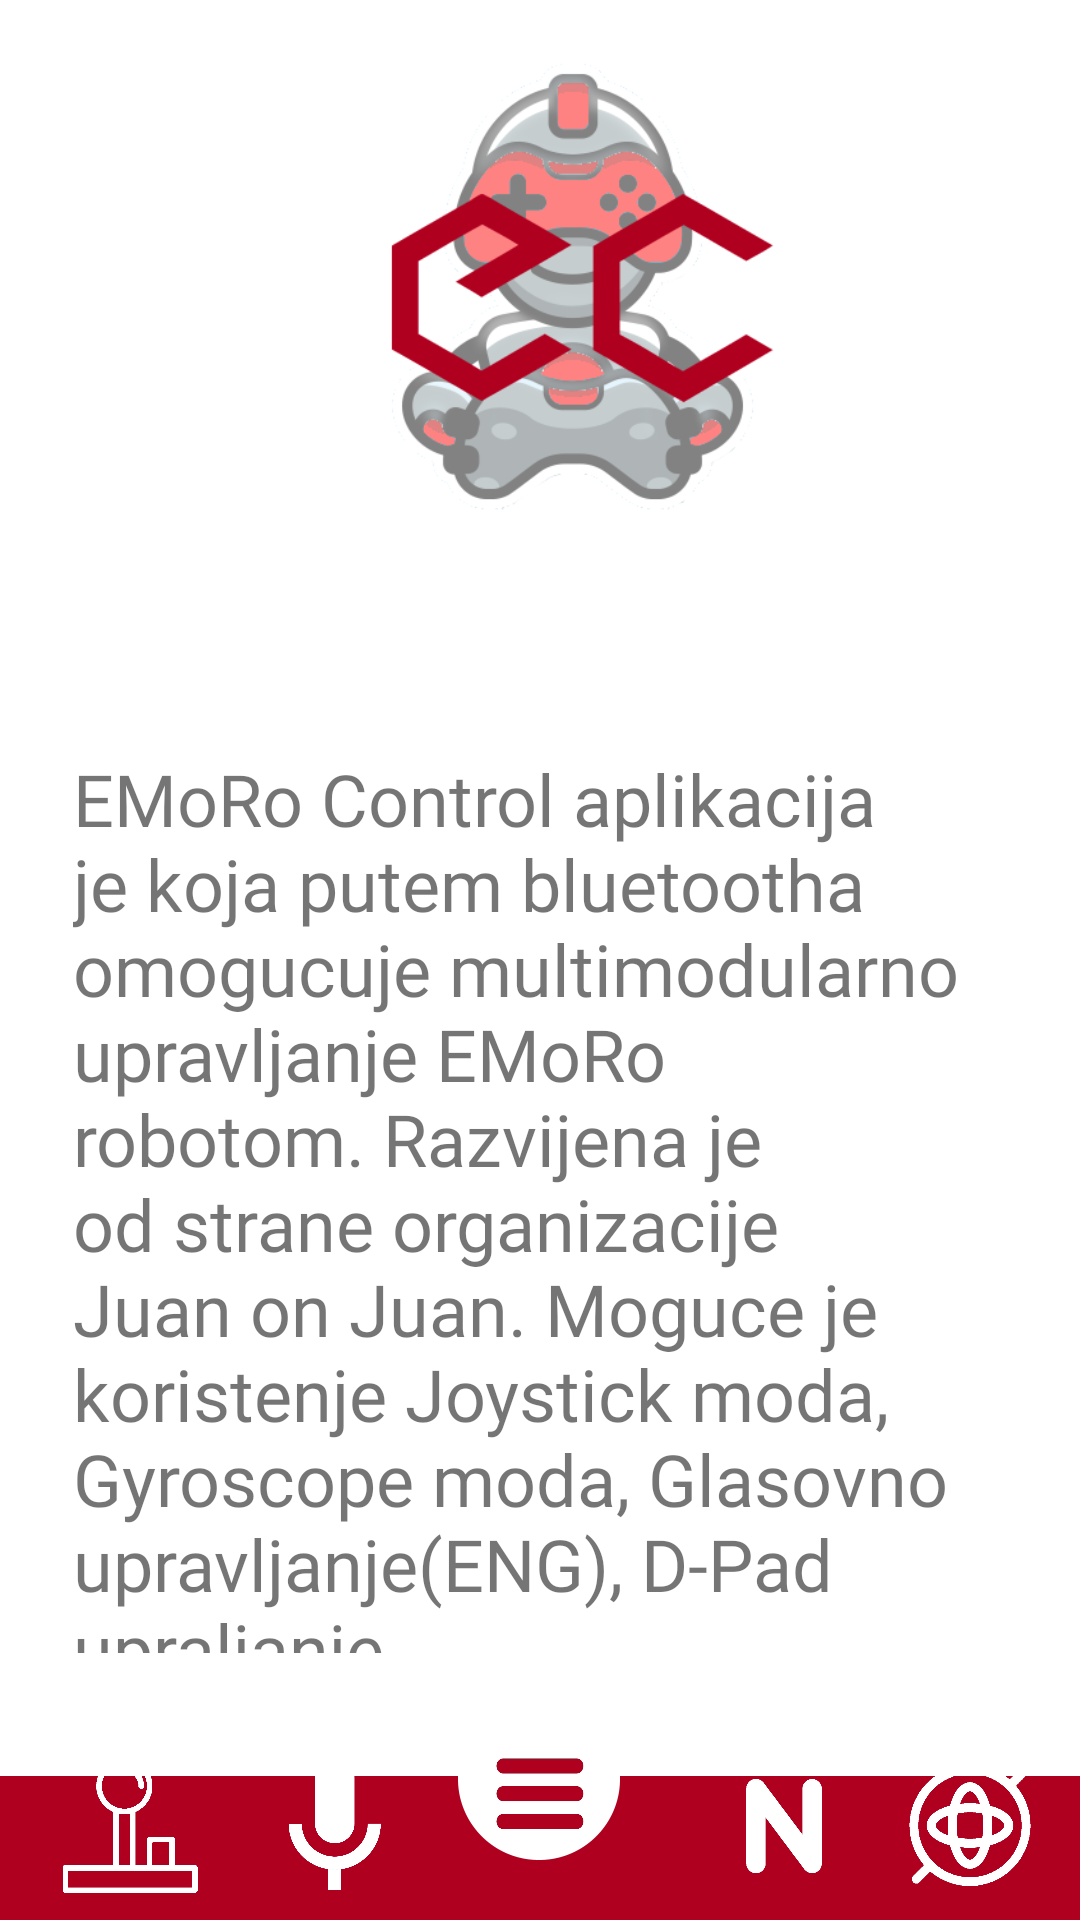

Icons on this 1080×1920 Android screen, each with its box as detection(x1, y1, x2, y2):
icogyrowhite: detection(895, 1758, 1045, 1886)
icojoystickwhite: detection(55, 1758, 205, 1893)
icomenured: detection(496, 1758, 584, 1829)
icomicwhite: detection(259, 1756, 409, 1890)
iconormalwhite: detection(746, 1779, 822, 1873)
